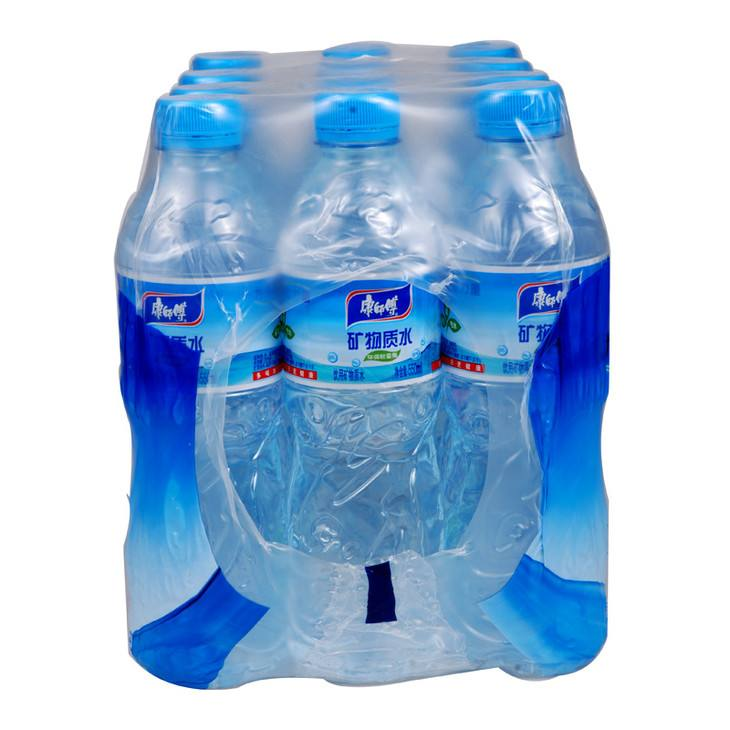amwater: (95, 28, 644, 696)
